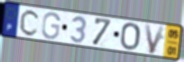3: (70, 15, 88, 45)
7: (93, 16, 113, 47)
C: (19, 9, 42, 37)
G: (40, 11, 61, 41)
O: (120, 22, 142, 52)
V: (143, 24, 166, 56)
